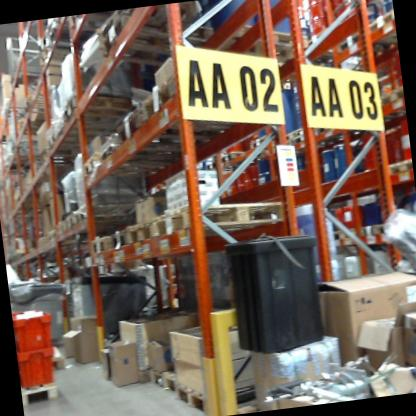pallet: (132, 61, 265, 148), (92, 9, 229, 89), (149, 183, 295, 246), (108, 95, 216, 162), (93, 3, 227, 52), (208, 13, 298, 74), (91, 127, 192, 177), (71, 138, 168, 189), (58, 84, 142, 133), (38, 122, 119, 163), (71, 196, 136, 233), (332, 19, 383, 65), (171, 377, 221, 416), (363, 0, 396, 52), (21, 376, 69, 411), (125, 211, 164, 254), (146, 362, 184, 398), (373, 73, 404, 110), (38, 343, 67, 381), (218, 146, 250, 176), (87, 230, 115, 261), (275, 122, 312, 144), (246, 132, 278, 156), (287, 129, 318, 153), (384, 153, 412, 179), (63, 207, 82, 236), (199, 154, 220, 180), (111, 223, 127, 254), (55, 219, 72, 243), (34, 235, 50, 254), (48, 231, 59, 247)
small_load_carrier: (14, 305, 67, 352), (17, 341, 58, 391)
